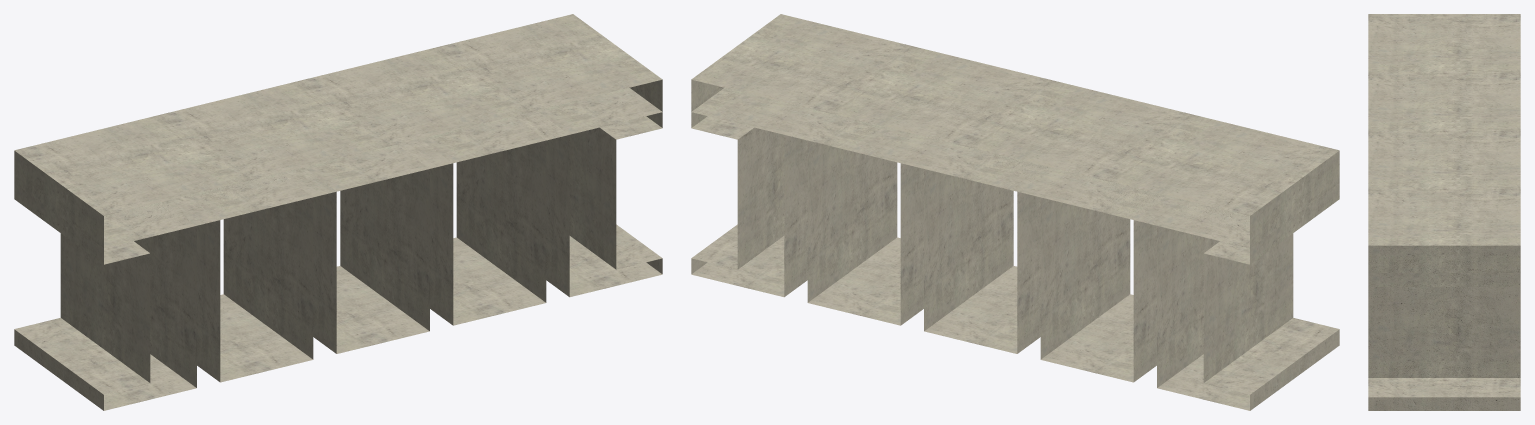
File: BridgeBase5-18w-5l-5d.FBX
3 views of the same model, side by side, from view 1: azimuth 30°, elevation 25°; view 2: azimuth 150°, elevation 25°; view 3: azimuth 270°, elevation 25° (orthographic). The views are drawn at different scales.
Parts seen in each view (by area): view 1: BridgeBase5-18w-5l-5d; view 2: BridgeBase5-18w-5l-5d; view 3: BridgeBase5-18w-5l-5d.
Part boxes in pixels (x1,y1,x2,y2): BridgeBase5-18w-5l-5d: [14, 14, 662, 410]; BridgeBase5-18w-5l-5d: [691, 14, 1339, 410]; BridgeBase5-18w-5l-5d: [1368, 14, 1520, 410].
Size of the model in its own units: 18 by 6 by 5.
